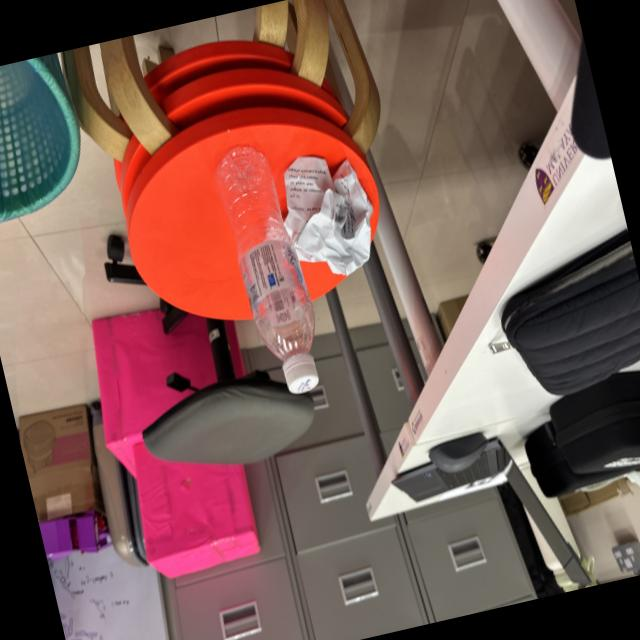crumpled_paper: (268, 130, 393, 302)
plastic_bottle: (206, 131, 335, 411)
